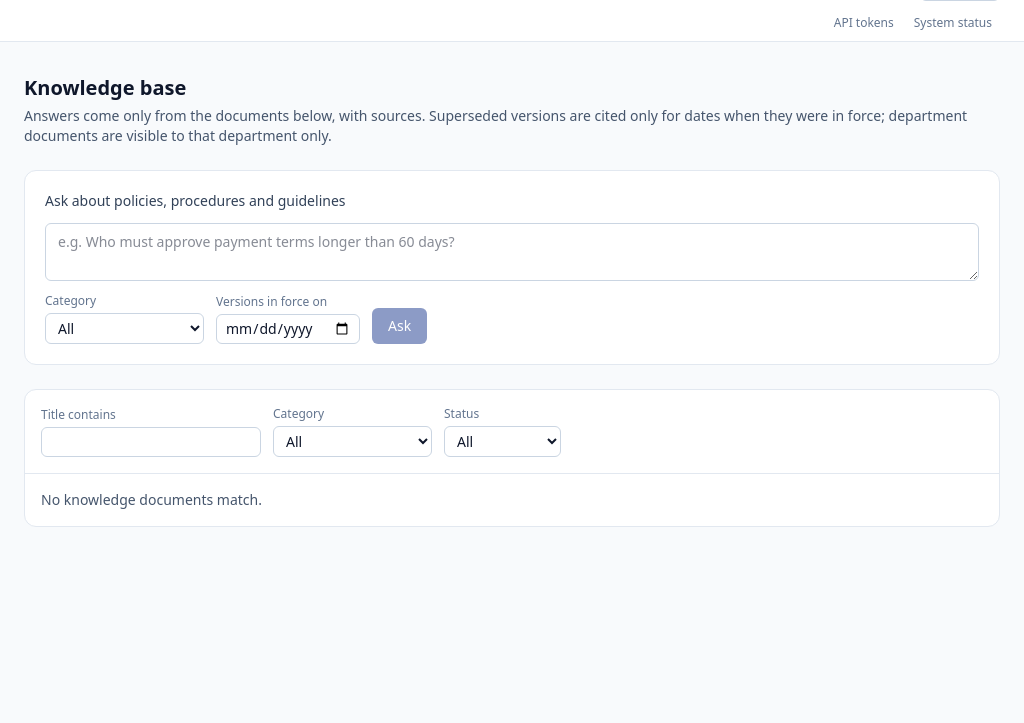
Test case: knowledge base › shows a cited answer with its sources
The image size is (1024, 723).
In the text box labelled "Ask about policies, procedures and guidelines": (512,252) [45,223,979,281], type "Who approves payment terms longer than 60 days?"
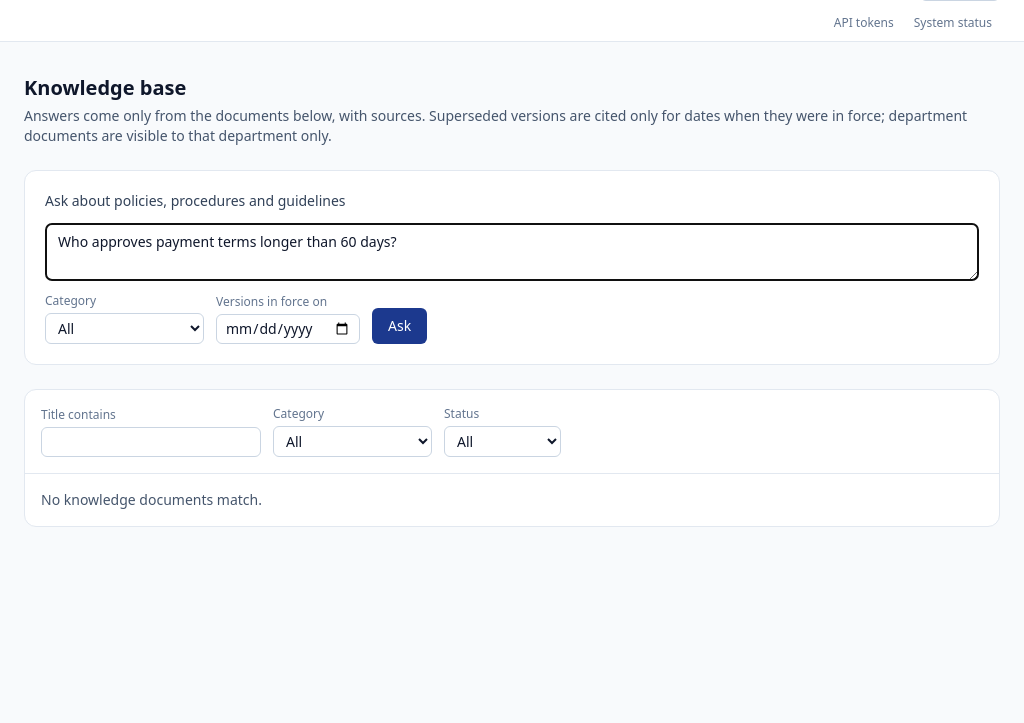
Select "Policy" in the dropdown labelled "Category" below "Versions in force on": (124,328) [45,313,204,344]
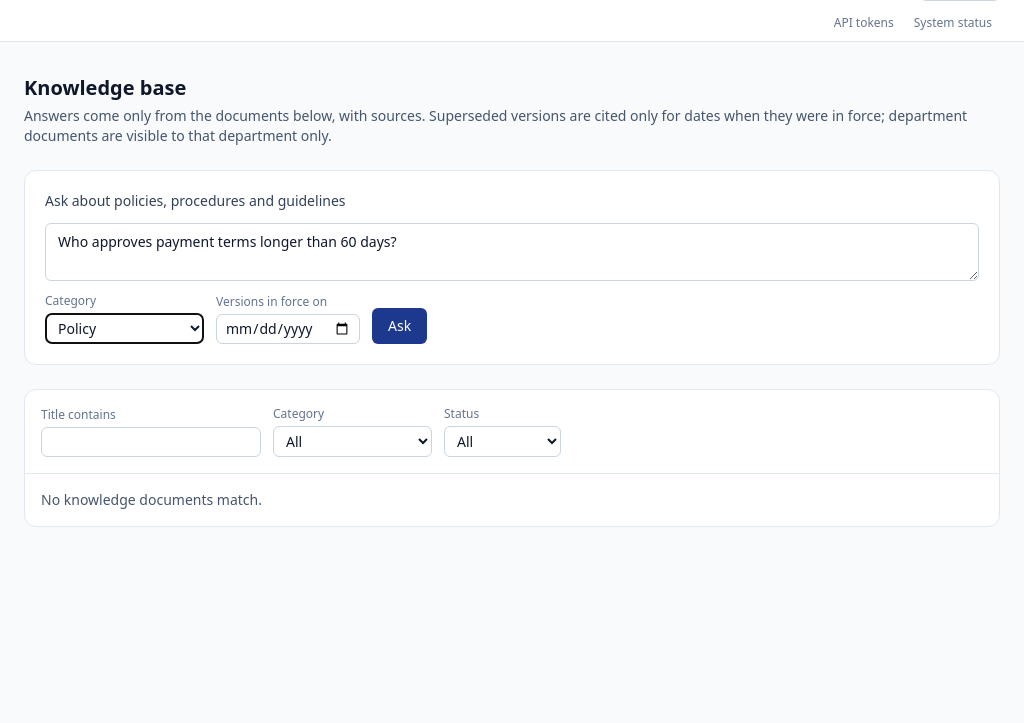
Click the button "Ask": (400,326) [372,308,427,344]
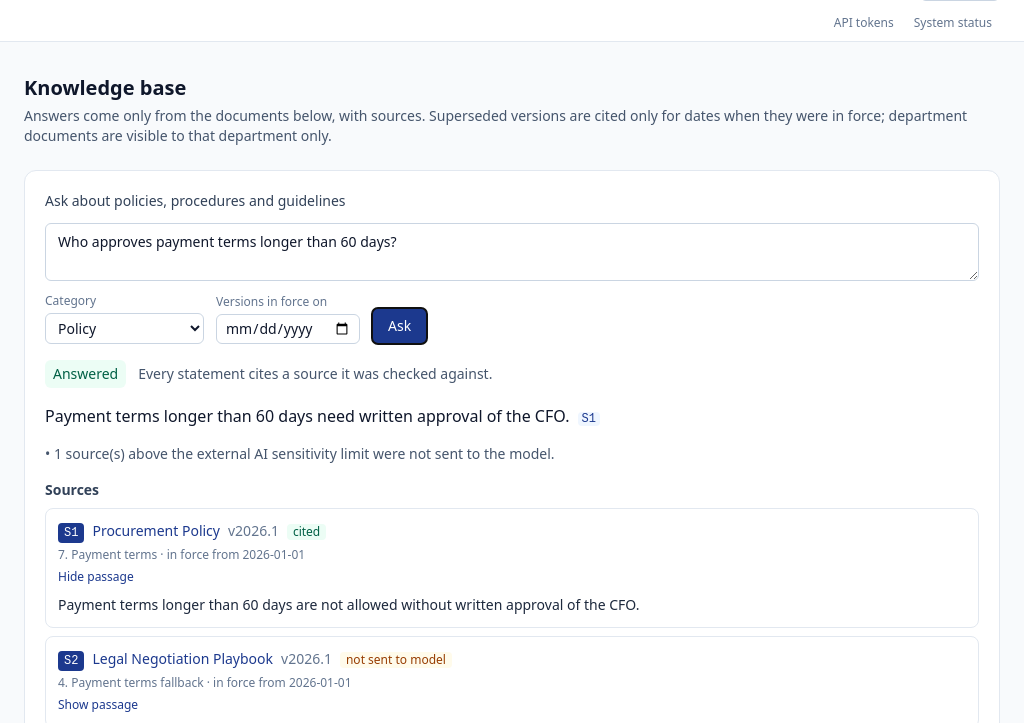
Result: the text "Answered" is shown at [45,360,126,388]
Result: the text "cited" is shown at [287,524,326,540]
Result: the text "not sent to model" is shown at [340,652,452,668]
Click the button "Show passage": (98,705) [58,697,138,713]
(page scrolled)
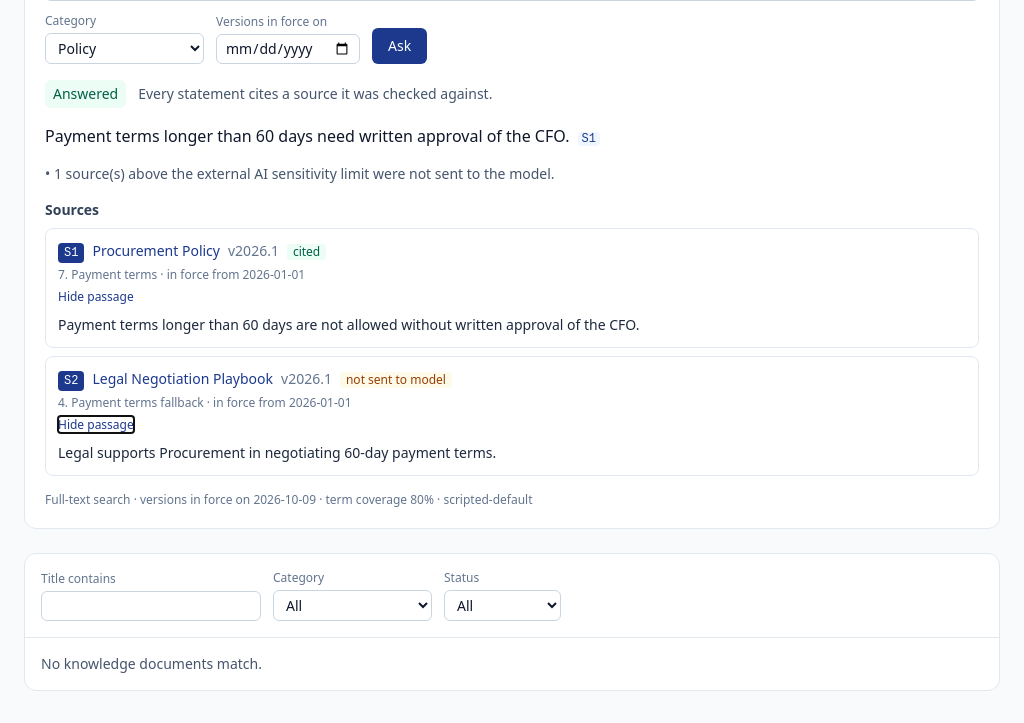
Result: the text "negotiating 60-day payment terms" is shown at [58,443,496,462]
